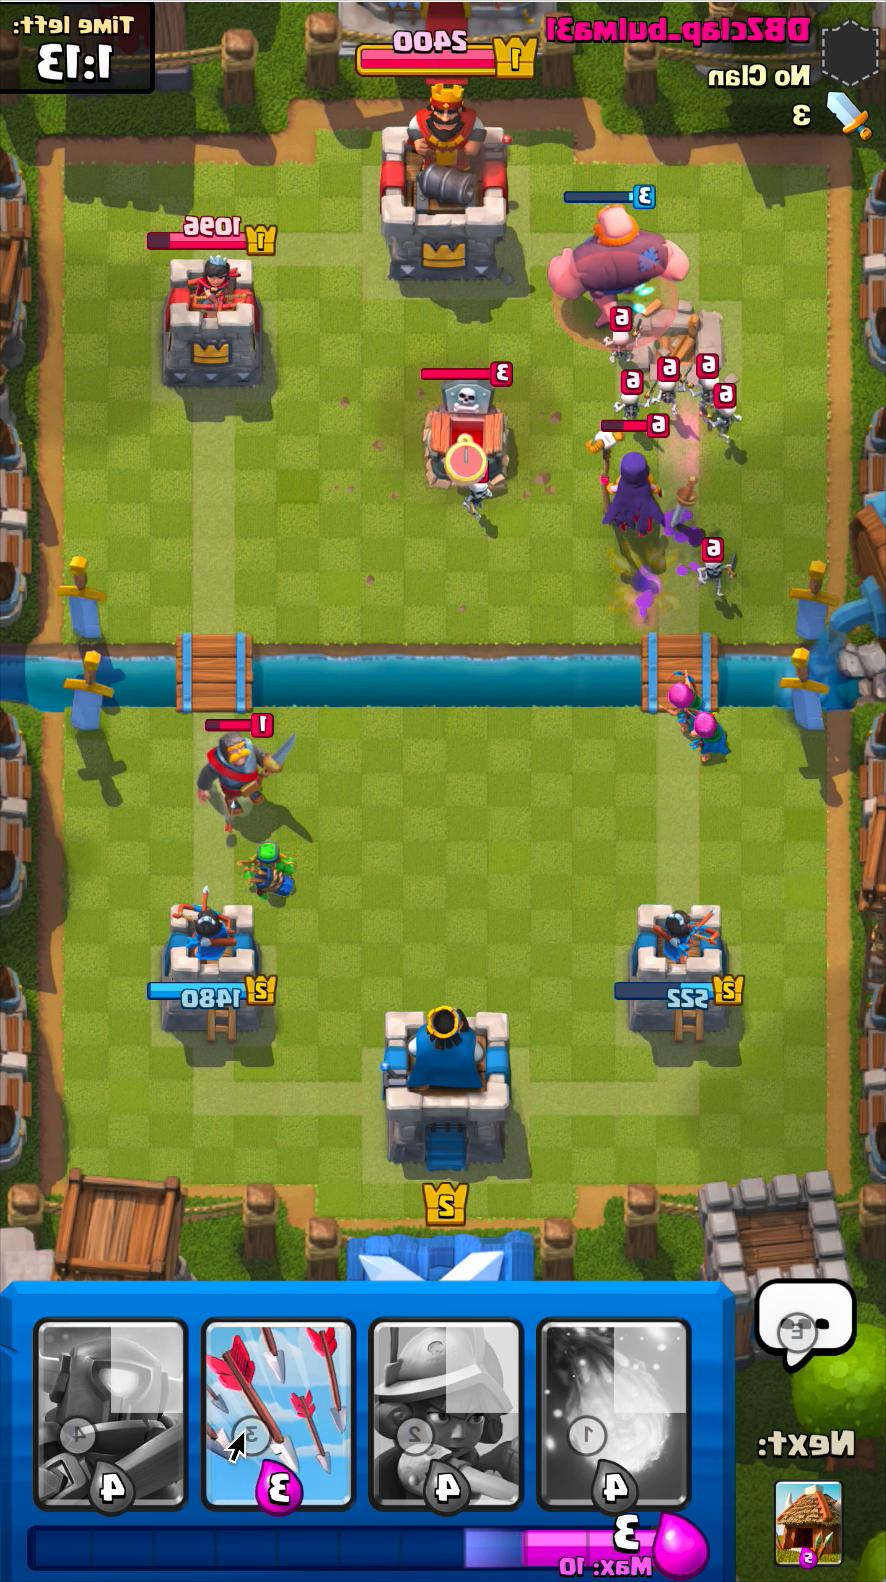archere: (669, 671, 706, 733), (691, 714, 735, 763)
chevalier: (187, 728, 301, 821)
geant: (548, 210, 695, 332)
gobelin_lances: (240, 856, 301, 901)
squelette: (687, 553, 745, 599), (703, 392, 744, 450), (648, 366, 684, 417), (702, 362, 732, 417), (622, 379, 645, 427), (609, 328, 637, 364)
